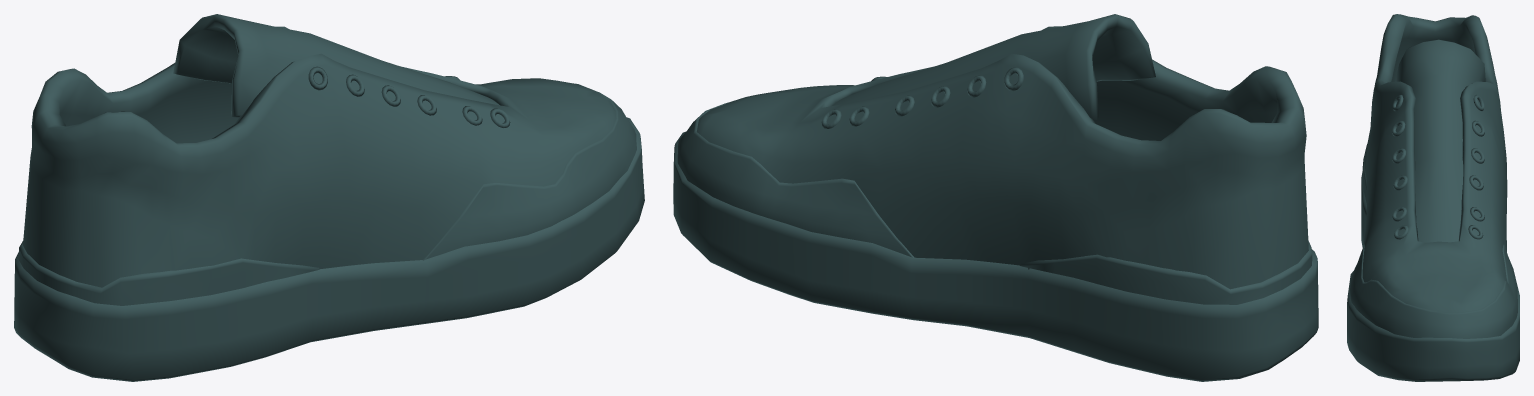
The model's file is NewBalance550.FBX.
3 views of the same model, side by side, from view 1: azimuth 30°, elevation 25°; view 2: azimuth 150°, elevation 25°; view 3: azimuth 270°, elevation 25° (orthographic). The views are drawn at different scales.
Parts seen in each view (by area): view 1: NewBalance550; view 2: NewBalance550; view 3: NewBalance550.
Part boxes in pixels (box(x1,y1,x2,y2)): NewBalance550: box(14, 14, 644, 381); NewBalance550: box(673, 14, 1318, 381); NewBalance550: box(1347, 14, 1519, 381).
Size of the model in its own units: 209 by 98.48 by 69.66.
